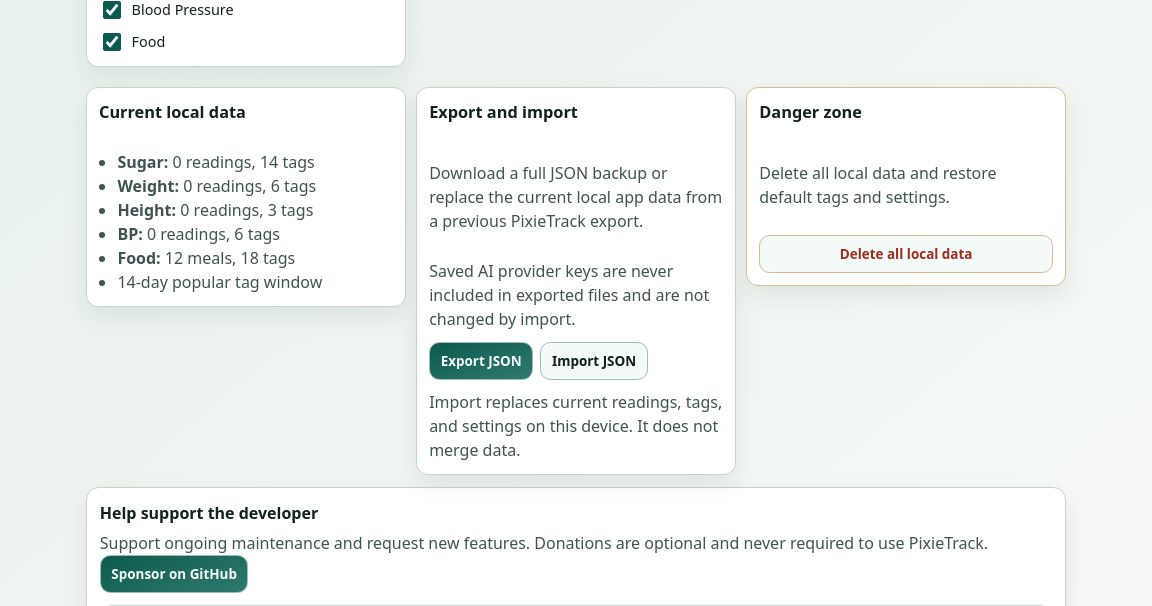
Test: SettingsPage › exports a json payload without saved AI keys
(page scrolled)
What coordinates should you click on to do the following:
click the button "Export JSON"
I would click on:
 (481, 361)
Its box is x1=429 y1=342 x2=533 y2=380.
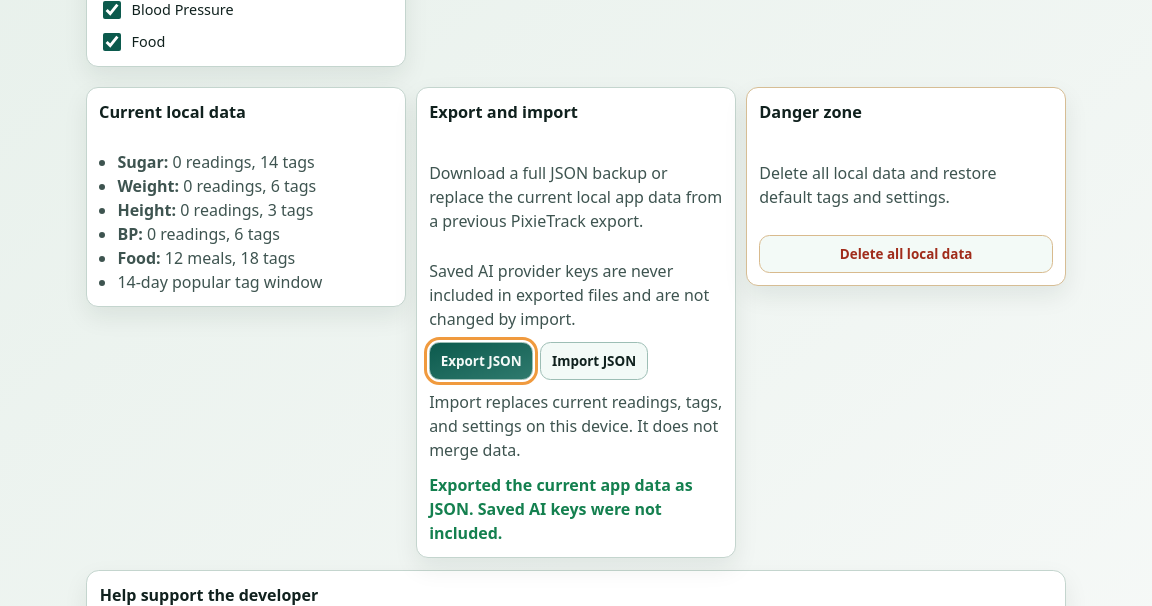
Check: the text "Exported the current app data as JSON. Saved AI keys were not included." is shown, box x1=429 y1=472 x2=723 y2=544
